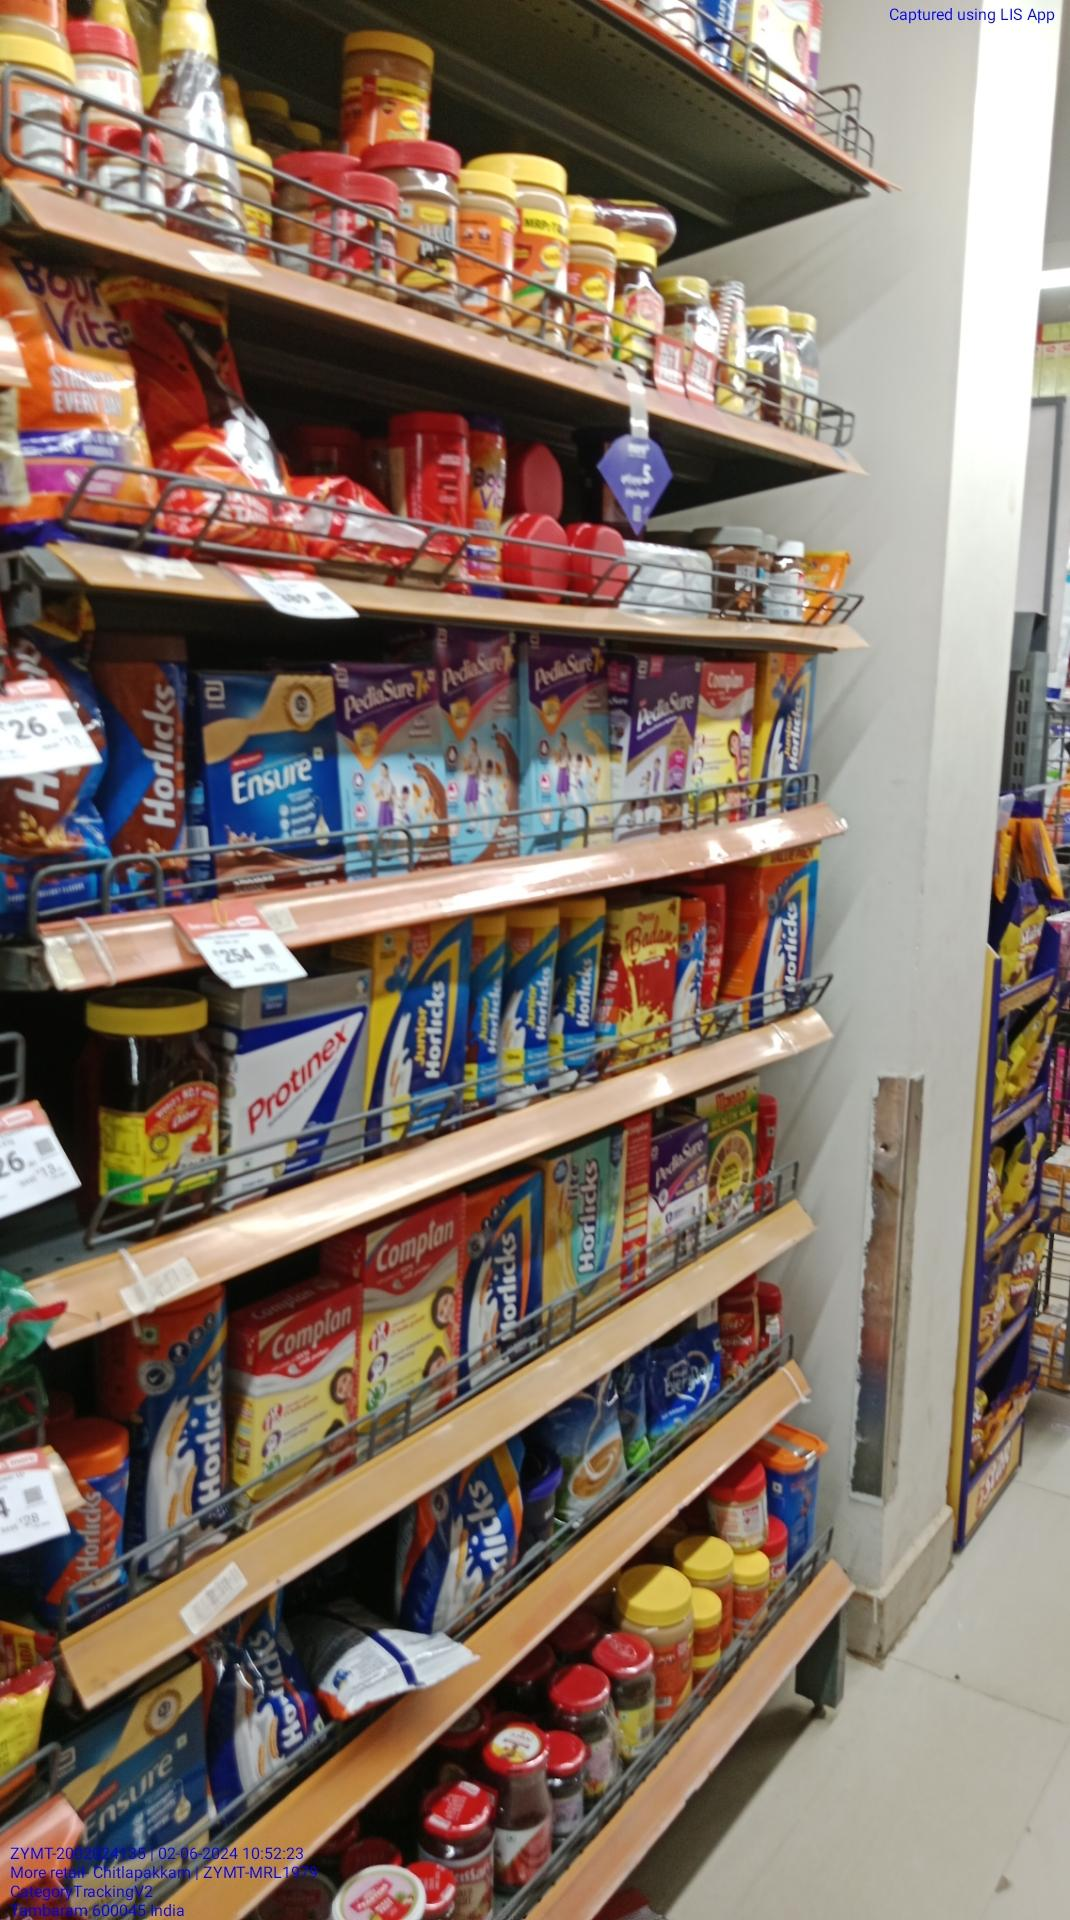HORLICKS_JUNIOR_VANILLA_500_GM_JAR: (511, 911, 556, 1111), (560, 897, 604, 1079), (476, 917, 505, 1114)
PEDIASURE_7_PLUS_CHOCOLATE_400_G_PACK: (340, 662, 435, 868)
PEDIASURE_CHOCOLATE_500_G_PACK: (623, 651, 697, 833)
